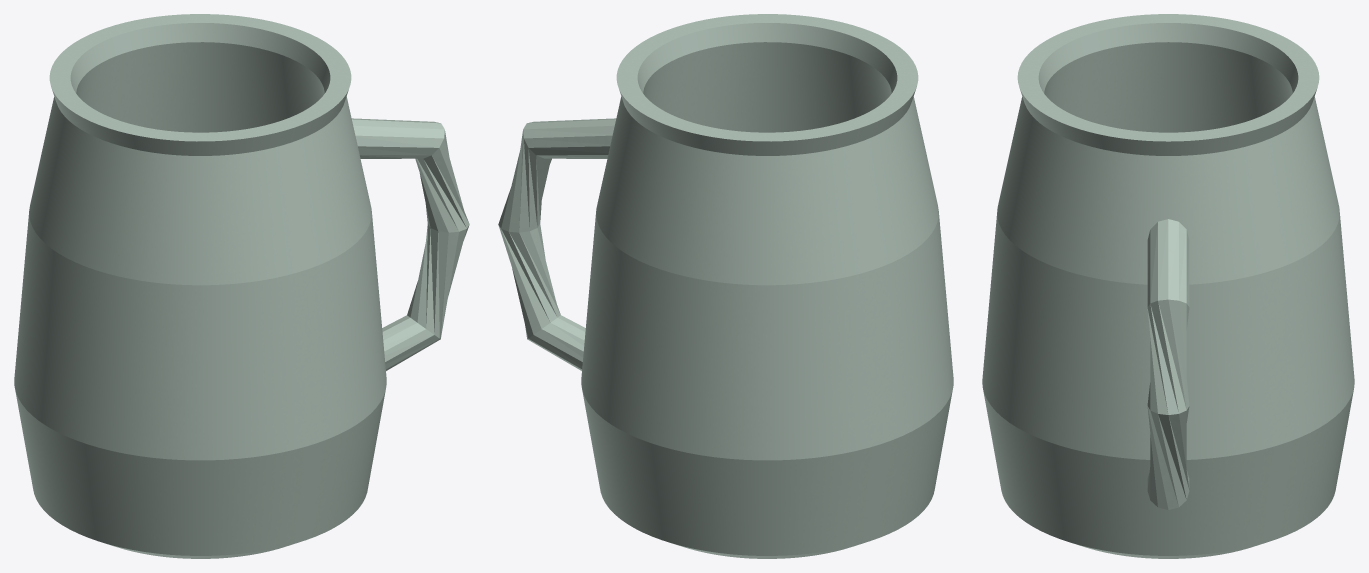
File: misc_com_redware_cup.dae
3 views of the same model, side by side, from view 1: azimuth 30°, elevation 25°; view 2: azimuth 150°, elevation 25°; view 3: azimuth 270°, elevation 25° (orthographic).
Visible parts, largest first — view 1: porcelain; view 2: porcelain; view 3: porcelain.
Boxes of the visible parts, x1,y1,x2,y2 form: porcelain: [14, 14, 469, 558]; porcelain: [498, 14, 953, 558]; porcelain: [982, 14, 1354, 558].
Bounding box in the file's own units: 10.58 × 7.98 × 9.98.
